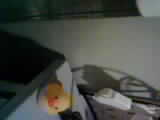duck: (36, 77, 72, 116)
